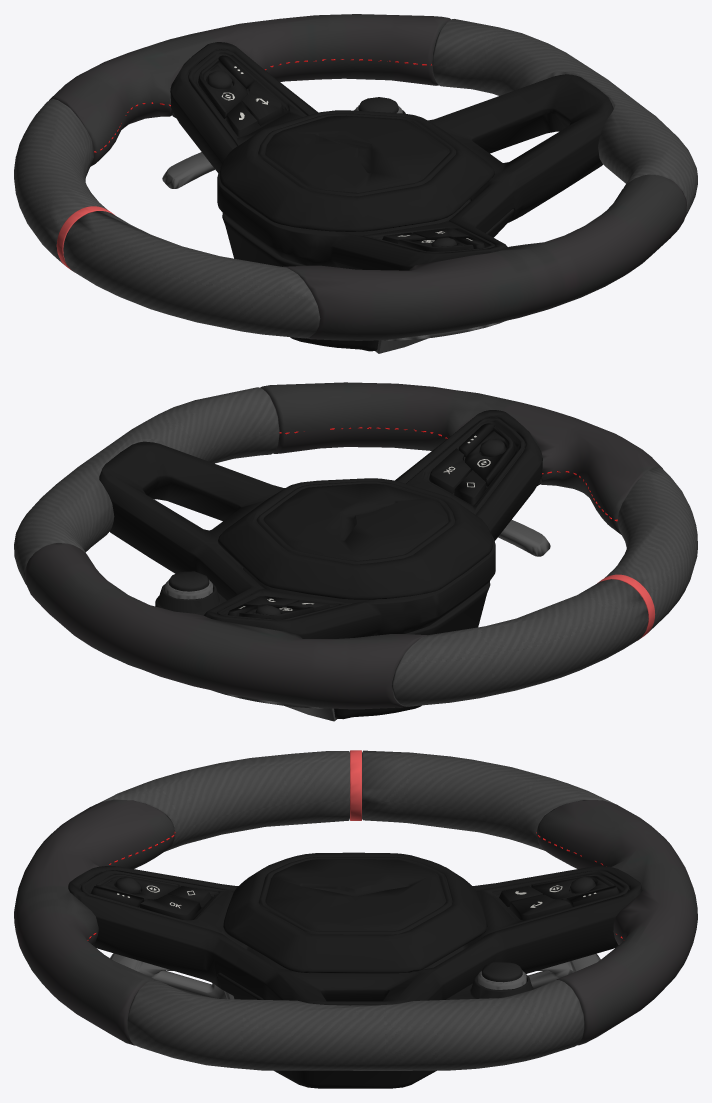
File: steer.glb
The picture shows the model from 3 angles, top to bottom: view 1: azimuth 30°, elevation 25°; view 2: azimuth 150°, elevation 25°; view 3: azimuth 270°, elevation 25°; orthographic projection.
Visible parts, largest first — view 1: body_01_mesh_00, button_03_mesh_00, paddle_01_mesh_00, button_01_mesh_00; view 2: body_01_mesh_00, button_03_mesh_00, paddle_01_mesh_00, button_01_mesh_00; view 3: body_01_mesh_00, button_03_mesh_00, paddle_01_mesh_00, button_01_mesh_00.
Boxes of the visible parts, left/top/right/bottom form: body_01_mesh_00: left=14, top=14, right=697, bottom=340; button_03_mesh_00: left=170, top=42, right=613, bottom=351; paddle_01_mesh_00: left=162, top=105, right=506, bottom=353; button_01_mesh_00: left=207, top=71, right=456, bottom=246; body_01_mesh_00: left=14, top=382, right=697, bottom=709; button_03_mesh_00: left=99, top=410, right=542, bottom=719; paddle_01_mesh_00: left=165, top=520, right=550, bottom=721; button_01_mesh_00: left=168, top=439, right=505, bottom=614; body_01_mesh_00: left=14, top=750, right=697, bottom=1070; button_03_mesh_00: left=68, top=866, right=642, bottom=1088; paddle_01_mesh_00: left=110, top=953, right=600, bottom=999; button_01_mesh_00: left=115, top=877, right=595, bottom=982.
Size of the model in its own units: 0.4259 by 0.122 by 0.4365.
Materials: 13 (5 with a texture image).
